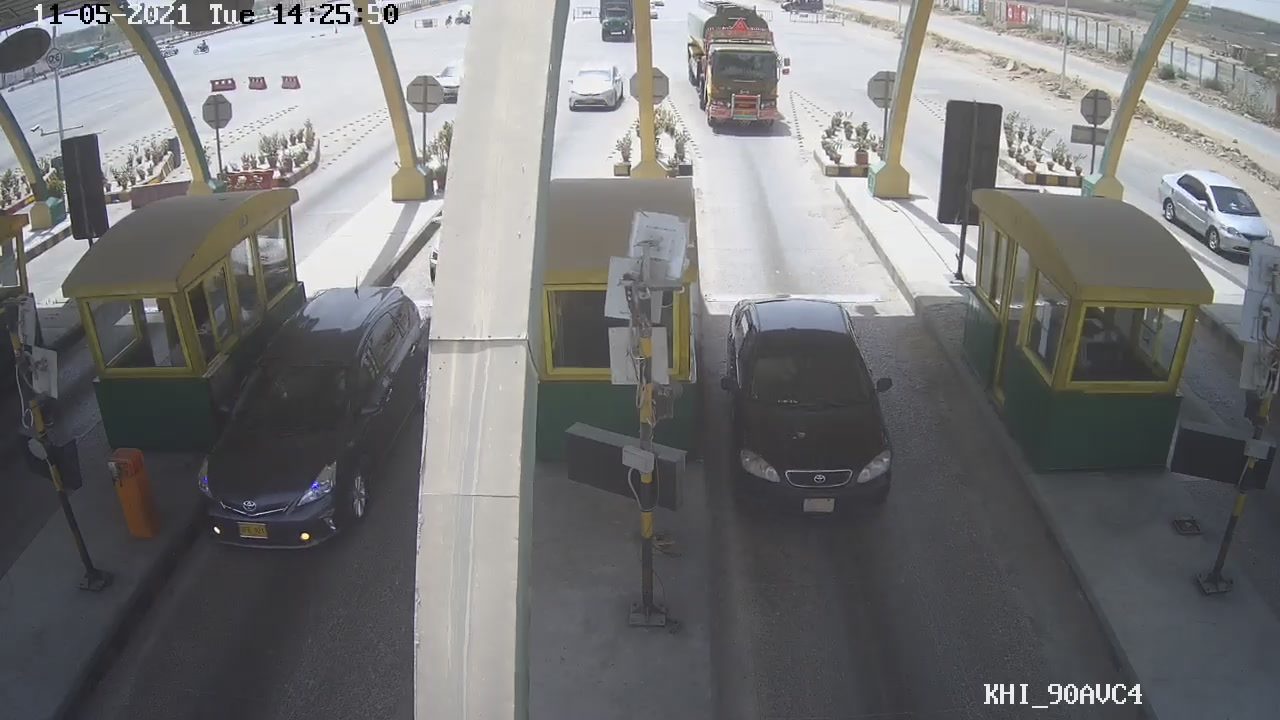F1: (715, 292, 907, 522)
